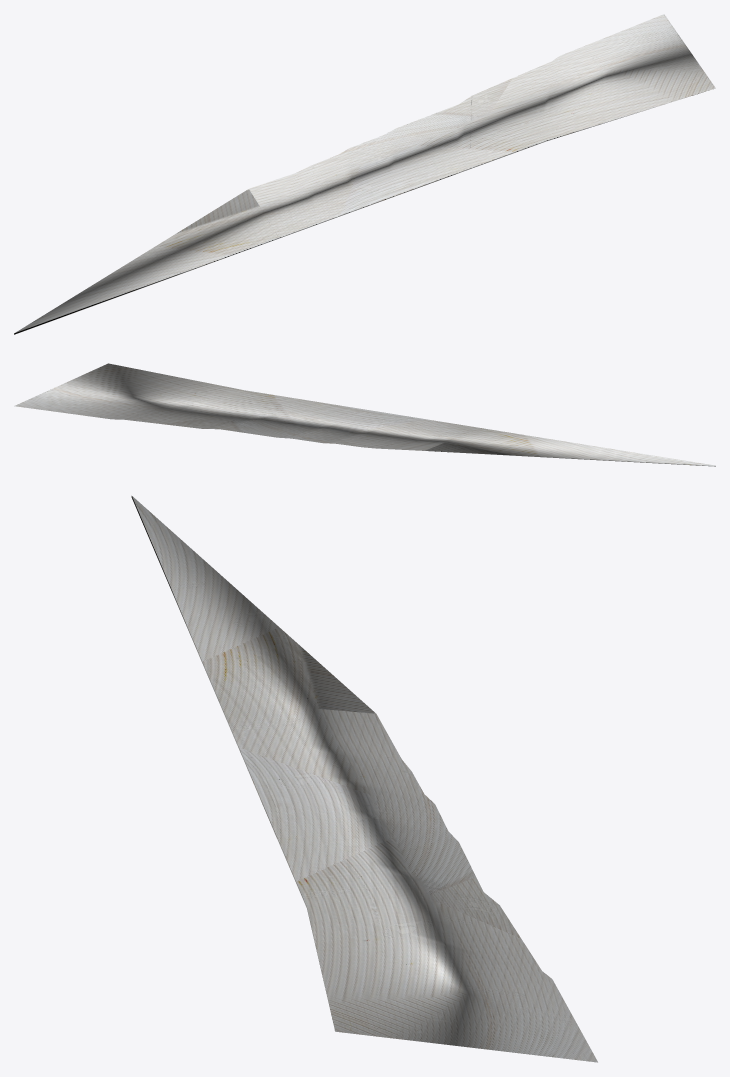
File: ArrowPen.fbx
3 views of the same model, one above another, from view 1: azimuth 30°, elevation 25°; view 2: azimuth 150°, elevation 25°; view 3: azimuth 270°, elevation 25° (orthographic). The views are drawn at different scales.
Parts seen in each view (by area): view 1: Pen; view 2: Pen; view 3: Pen.
Boxes of the visible parts, left/top/right/bottom form: Pen: left=14, top=14, right=715, bottom=334; Pen: left=14, top=363, right=715, bottom=466; Pen: left=131, top=496, right=597, bottom=1062.
Size of the model in its own units: 85.04 by 0.6345 by 29.37.
